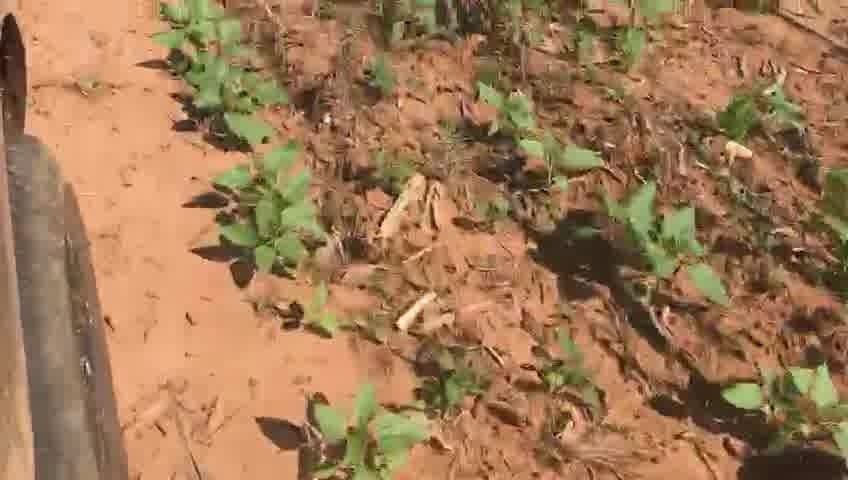sunflower: (582, 180, 731, 307), (200, 146, 332, 280), (704, 362, 835, 471), (285, 386, 435, 480), (176, 50, 281, 153), (720, 70, 815, 159), (152, 2, 257, 66), (511, 127, 611, 183), (464, 79, 541, 137), (283, 274, 353, 337), (609, 18, 648, 78)
